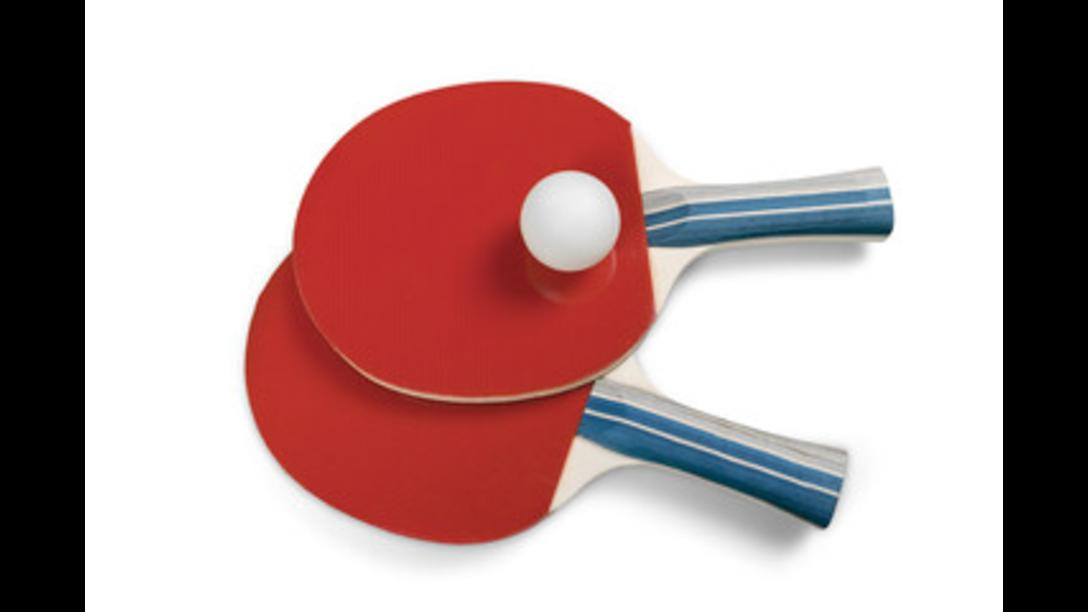Table-Tennis-Ball: (522, 172, 618, 266)
